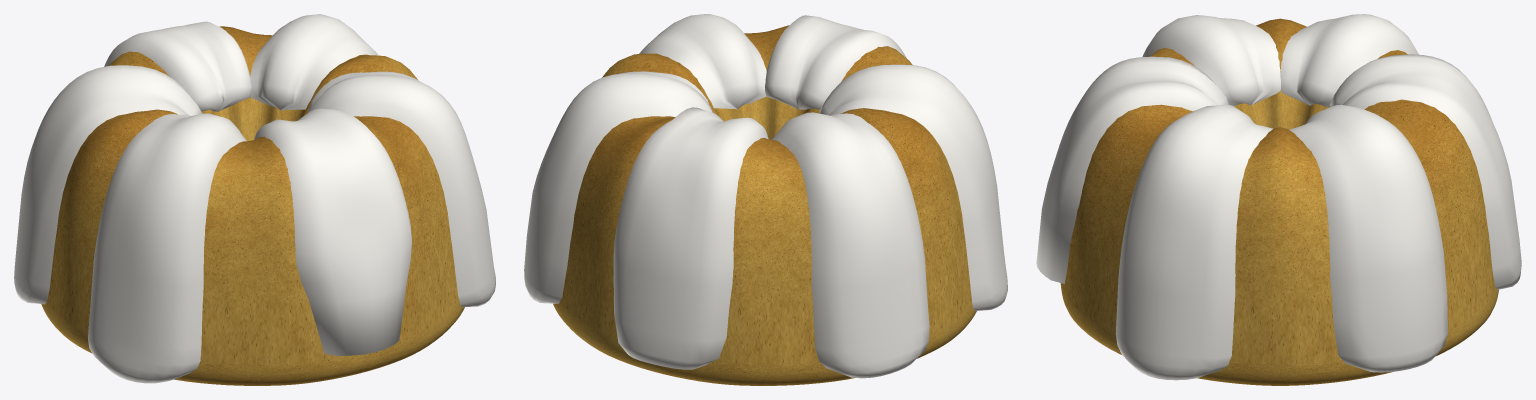
Rendered from bundtlet_lemon.glb.
The picture shows the model from 3 angles, left to right: view 1: azimuth 30°, elevation 25°; view 2: azimuth 150°, elevation 25°; view 3: azimuth 270°, elevation 25°; orthographic projection.
Parts seen in each view (by area): view 1: cake.001, frosting.003, frosting.004, frosting.002, frosting.005, frosting, frosting.001; view 2: cake.001, frosting.001, frosting.002, frosting.003, frosting, frosting.004, frosting.005; view 3: cake.001, frosting.005, frosting, frosting.004, frosting.001, frosting.003, frosting.002.
Boxes of the visible parts, <box> form: cake.001: <box>41,26,464,385</box>; frosting.003: <box>88,113,246,383</box>; frosting.004: <box>254,108,411,355</box>; frosting.002: <box>14,65,202,304</box>; frosting.005: <box>308,71,495,307</box>; frosting: <box>250,14,378,110</box>; frosting.001: <box>104,21,251,111</box>; cake.001: <box>553,25,976,385</box>; frosting.001: <box>613,107,768,369</box>; frosting.002: <box>772,112,929,378</box>; frosting.003: <box>819,64,1007,310</box>; frosting: <box>524,71,713,303</box>; frosting.004: <box>765,15,906,109</box>; frosting.005: <box>639,14,766,109</box>; cake.001: <box>1060,18,1498,385</box>; frosting.005: <box>1115,104,1273,380</box>; frosting: <box>1289,105,1447,372</box>; frosting.004: <box>1036,56,1228,283</box>; frosting.001: <box>1330,54,1521,289</box>; frosting.003: <box>1142,15,1280,105</box>; frosting.002: <box>1280,14,1418,106</box>.
Bounding box in the file's own units: 0.1051 × 0.0602 × 0.1134.
2 materials, 1 textured.
